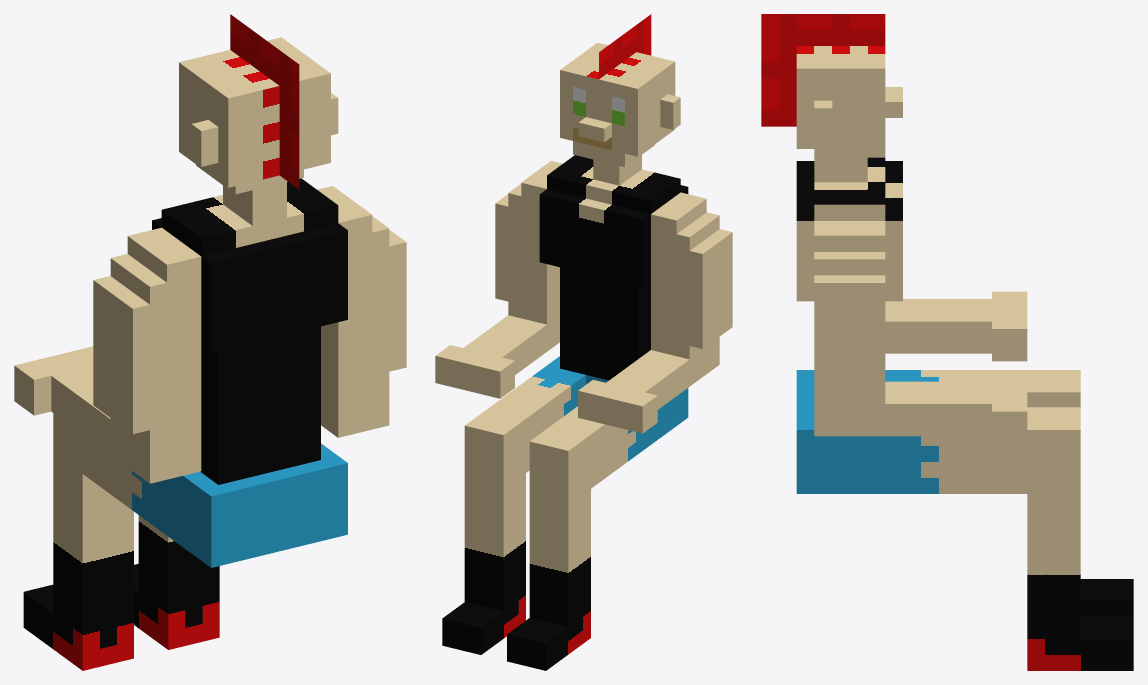
File: Chad.fbx
3 renders of one model, left to right at view 1: azimuth 30°, elevation 25°; view 2: azimuth 150°, elevation 25°; view 3: azimuth 270°, elevation 25°, orthographic. The views are drawn at different scales.
Parts seen in each view (by area): view 1: torso, waist, back, leftCalf, head, bicep_1, bicep, muscle_1, traps, rightCalf, leftShoulder, hair (+10 smaller); view 2: leftCalf, rightCalf, head, torso, chest, bicep_1, bicep, rightThigh, muscle_1, traps, forearm_1, leftThigh (+14 smaller); view 3: rightCalf, rightThigh, muscle, head, hair, waist, forearm, forearm_1, bicep, rightFoot, traps, leftThigh (+11 smaller).
Part boxes in pixels (bbox=[...]): torso: bbox=[200, 326, 320, 484]; waist: bbox=[161, 443, 347, 567]; back: bbox=[201, 223, 347, 353]; leftCalf: bbox=[53, 413, 133, 652]; head: bbox=[179, 37, 330, 187]; bicep_1: bbox=[110, 254, 201, 483]; bicep: bbox=[321, 216, 389, 437]; muscle_1: bbox=[93, 276, 149, 434]; traps: bbox=[161, 178, 338, 256]; rightCalf: bbox=[138, 515, 219, 631]; leftShoulder: bbox=[127, 227, 201, 336]; hair: bbox=[230, 14, 299, 189]; leftCalf: bbox=[529, 425, 590, 627]; rightCalf: bbox=[464, 409, 525, 624]; head: bbox=[560, 42, 675, 156]; torso: bbox=[560, 267, 650, 380]; chest: bbox=[539, 189, 650, 287]; bicep_1: bbox=[651, 212, 719, 369]; bicep: bbox=[508, 184, 559, 351]; rightThigh: bbox=[472, 365, 585, 483]; muscle_1: bbox=[689, 229, 732, 348]; traps: bbox=[547, 155, 680, 214]; forearm_1: bbox=[599, 343, 712, 409]; leftThigh: bbox=[552, 406, 650, 488]; rightCalf: bbox=[1027, 407, 1080, 654]; rightThigh: bbox=[885, 407, 1062, 493]; muscle: bbox=[814, 275, 885, 395]; head: bbox=[796, 46, 885, 148]; hair: bbox=[761, 14, 885, 126]; waist: bbox=[796, 370, 885, 493]; forearm: bbox=[832, 381, 991, 436]; forearm_1: bbox=[885, 299, 1009, 353]; bicep: bbox=[814, 252, 885, 436]; rightFoot: bbox=[1027, 616, 1133, 670]; traps: bbox=[814, 157, 885, 220]; leftThigh: bbox=[885, 370, 1062, 407].
Bounding box in the file's own units: 100 × 244 × 131.
Materials: 1 (1 with a texture image).
